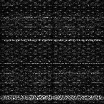lte: (1, 94, 104, 100), (1, 38, 104, 41)
